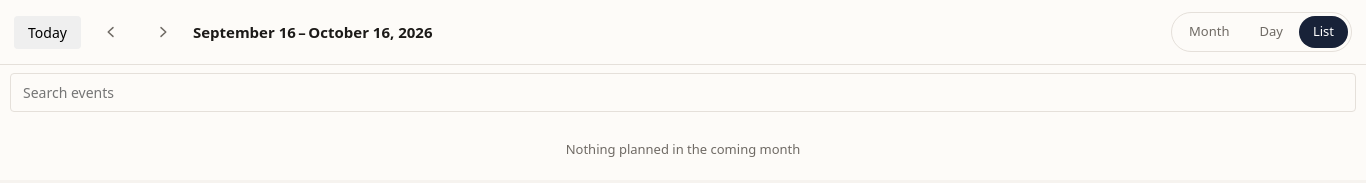
Test: CalendarLayout — the phone tier › searches from the head of the list on a phone
Type "retro" into the search field labelled "Search events" at (683, 92), box [10,73,1356,112]
Then press Enter
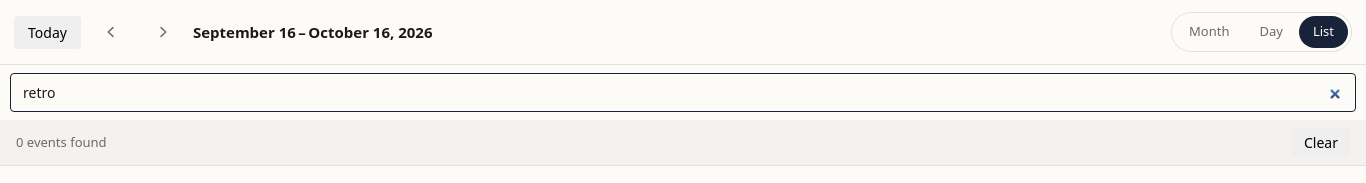
Now the text "0 events found" is shown, box [16,133,107,151]
